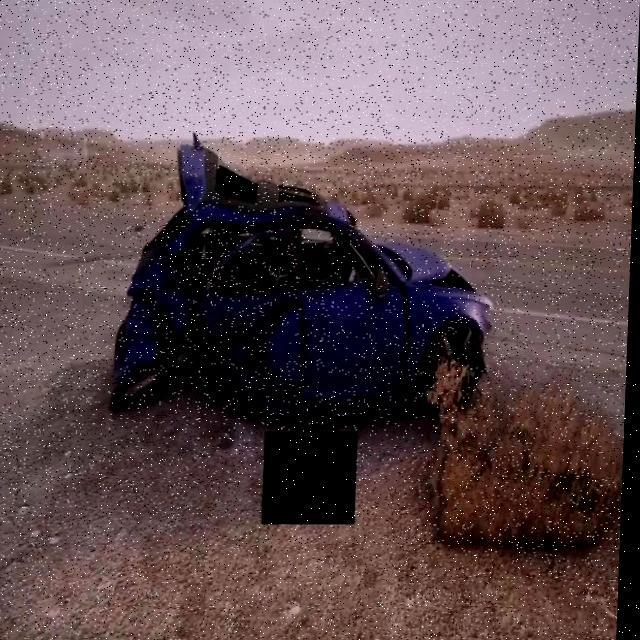single accident: (93, 108, 510, 508)
